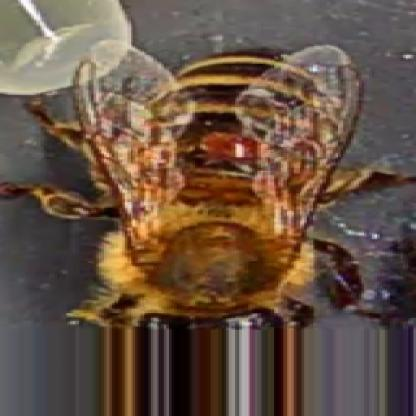bee: (115, 54, 318, 331)
vaoora: (198, 128, 249, 162)
